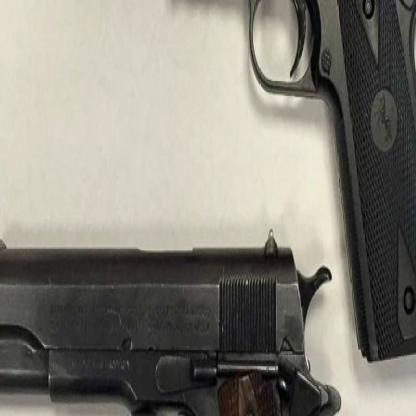gun: (43, 0, 416, 371), (0, 228, 352, 415)
